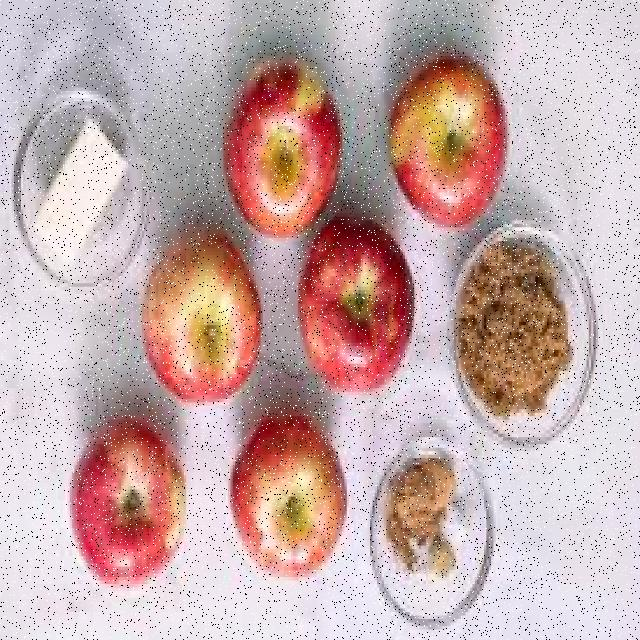Apple: (388, 53, 511, 226), (299, 217, 418, 392), (224, 66, 343, 236), (144, 235, 262, 403), (71, 421, 186, 588), (232, 422, 344, 579)
